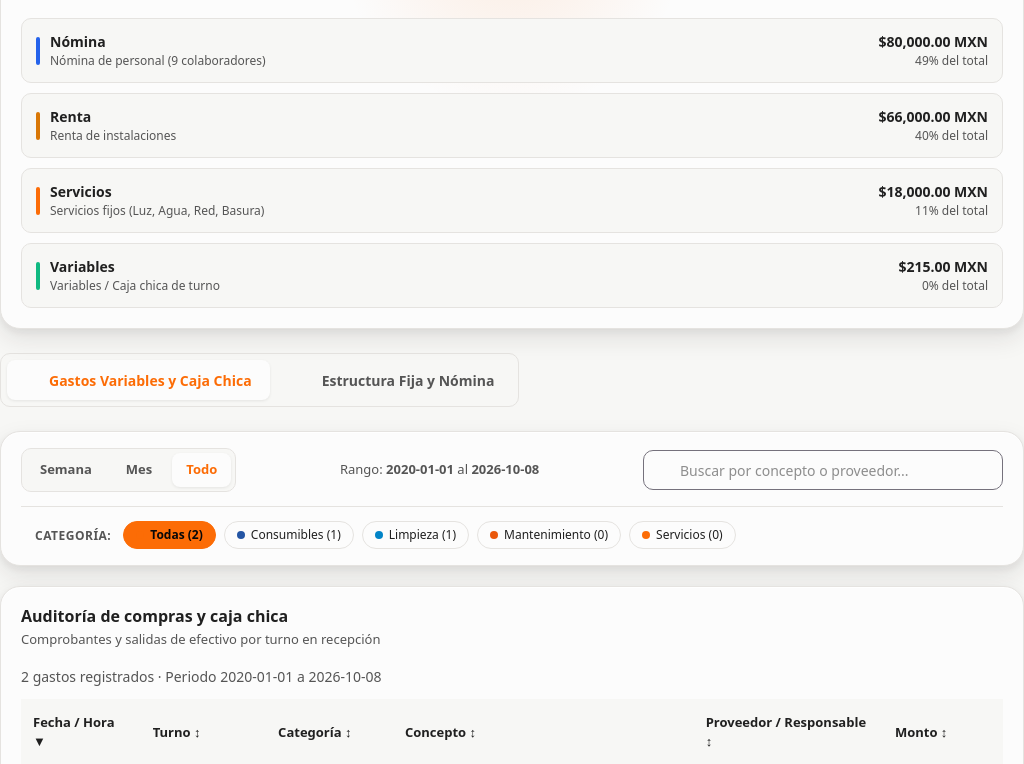
Test: ExpenseReport component › renders the two subview tabs and toggles between them
(page scrolled)
Expected: the tab "Gastos Variables y Caja Chica" is shown, [7,360,270,400]
Note: Switch to Fixed tab
Click the tab "Estructura Fija y Nómina". click: (396, 380)
box: [280,360,512,400]
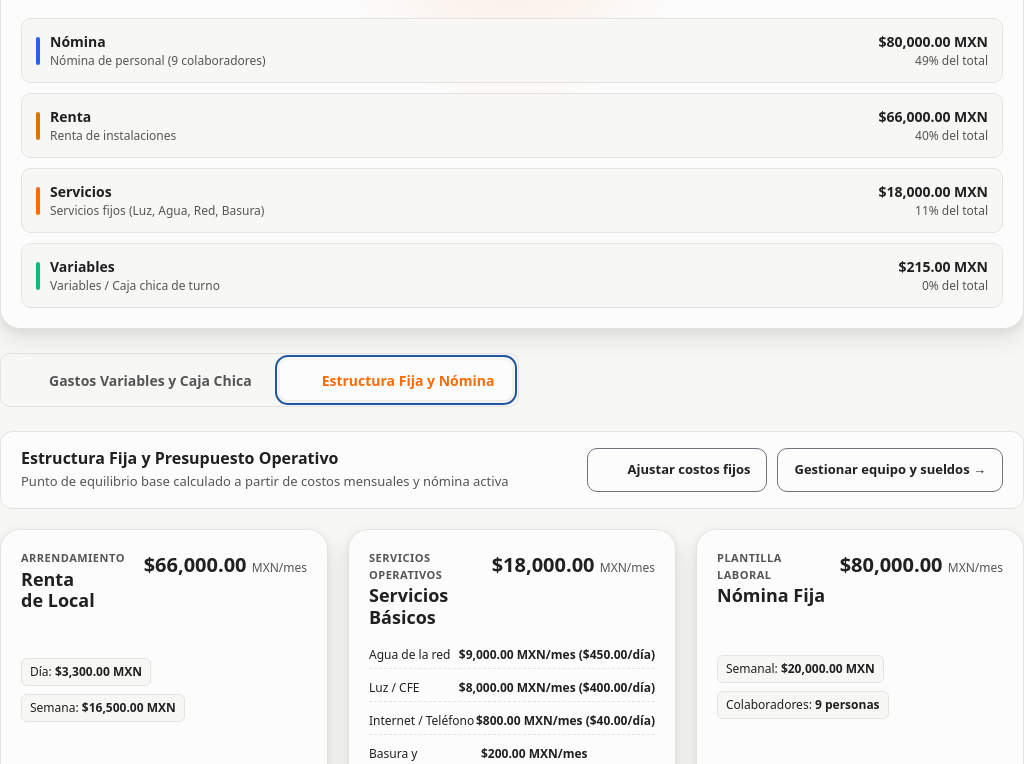
Expected: the heading "Renta de Local" is shown, [21,567,95,612]
Expected: the heading "Servicios Básicos" is shown, [369,583,448,629]
Expected: the heading "Nómina Fija" is shown, [717,585,830,607]
Note: Switch back to Variables tab
Click the tab "Gastos Variables y Caja Chica". click: (138, 380)
box: [7,360,270,400]
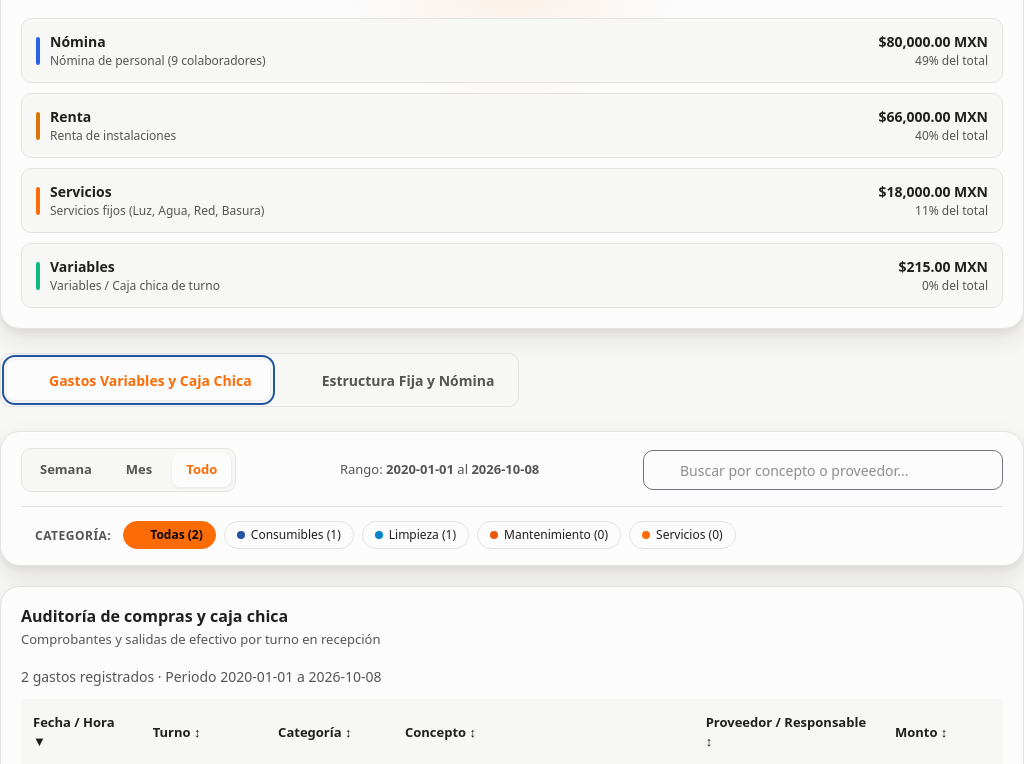
Expected: the heading "Auditoría de compras y caja chica" is shown, [21,605,288,627]
